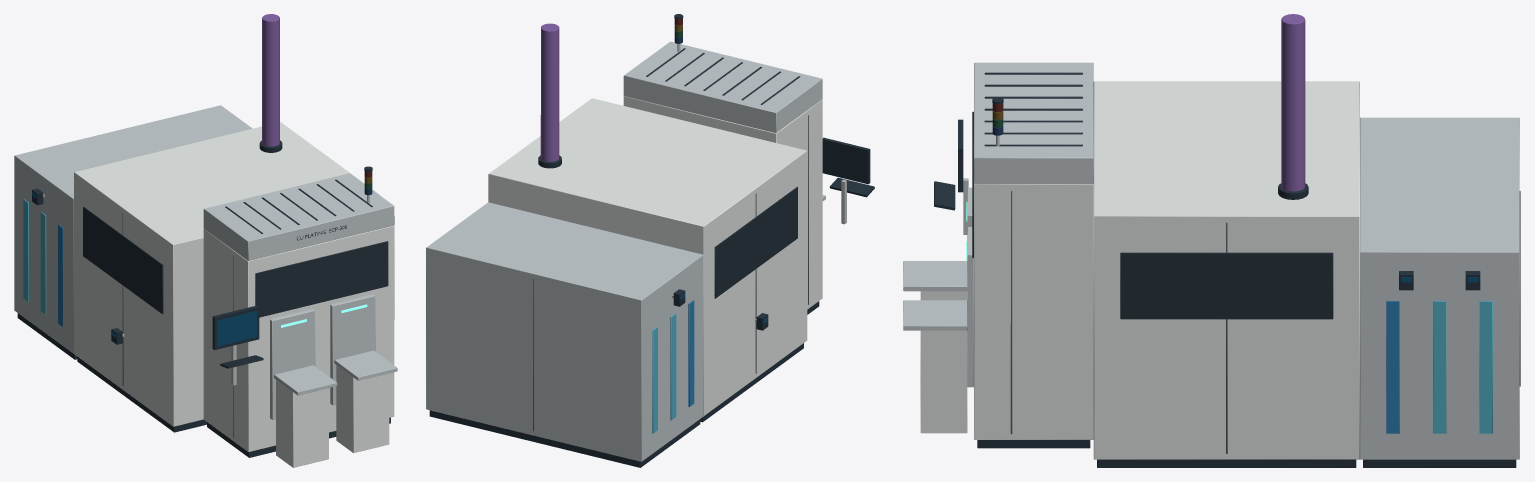
The model's file is fab1-tool-ecp.glb.
The picture shows the model from 3 angles, left to right: view 1: azimuth 30°, elevation 25°; view 2: azimuth 150°, elevation 25°; view 3: azimuth 270°, elevation 25°; orthographic projection. The views are drawn at different scales.
Parts seen in each view (by area): view 1: TOOL_ECP_Plating, TOOL_ECP_EFEM, TOOL_ECP_BathCabinet, TOOL_ECP_LoadPorts, TOOL_ECP_Operator, TOOL_HMI_Screen; view 2: TOOL_ECP_BathCabinet, TOOL_ECP_Plating, TOOL_ECP_EFEM, TOOL_ECP_Operator; view 3: TOOL_ECP_Plating, TOOL_ECP_BathCabinet, TOOL_ECP_EFEM, TOOL_ECP_LoadPorts, TOOL_ECP_Operator.
Boxes of the visible parts, x1,y1,x2,y2 form: TOOL_ECP_Plating: (74,14,379,432); TOOL_ECP_EFEM: (203,173,394,457); TOOL_ECP_BathCabinet: (14,105,252,359); TOOL_ECP_LoadPorts: (270,294,397,467); TOOL_ECP_Operator: (212,305,263,385); TOOL_HMI_Screen: (217,311,256,346); TOOL_ECP_BathCabinet: (426,202,703,467); TOOL_ECP_Plating: (488,23,807,422); TOOL_ECP_EFEM: (623,41,822,314); TOOL_ECP_Operator: (822,137,874,224); TOOL_ECP_Plating: (1093,14,1359,467); TOOL_ECP_BathCabinet: (1360,117,1520,467); TOOL_ECP_EFEM: (972,62,1093,448); TOOL_ECP_LoadPorts: (903,187,973,433); TOOL_ECP_Operator: (934,119,968,234).
Size of the model in its own units: 2.63 by 3.55 by 4.64.
Materials: 3 (1 with a texture image).
